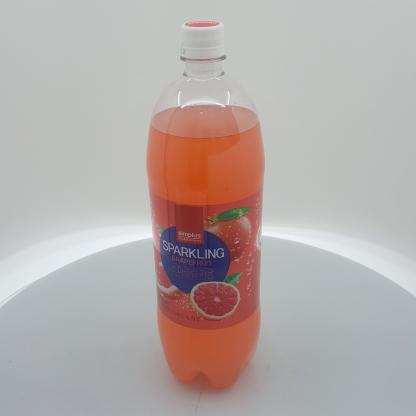--------------: (146, 20, 265, 389)
